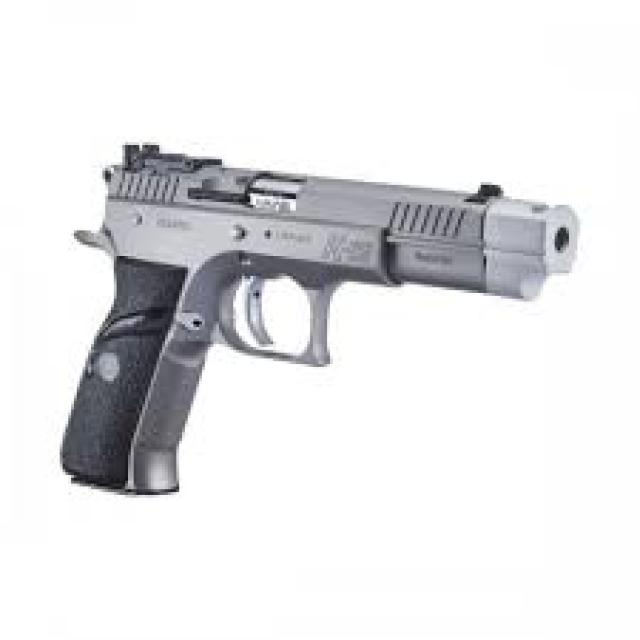pistol: (52, 140, 588, 499)
